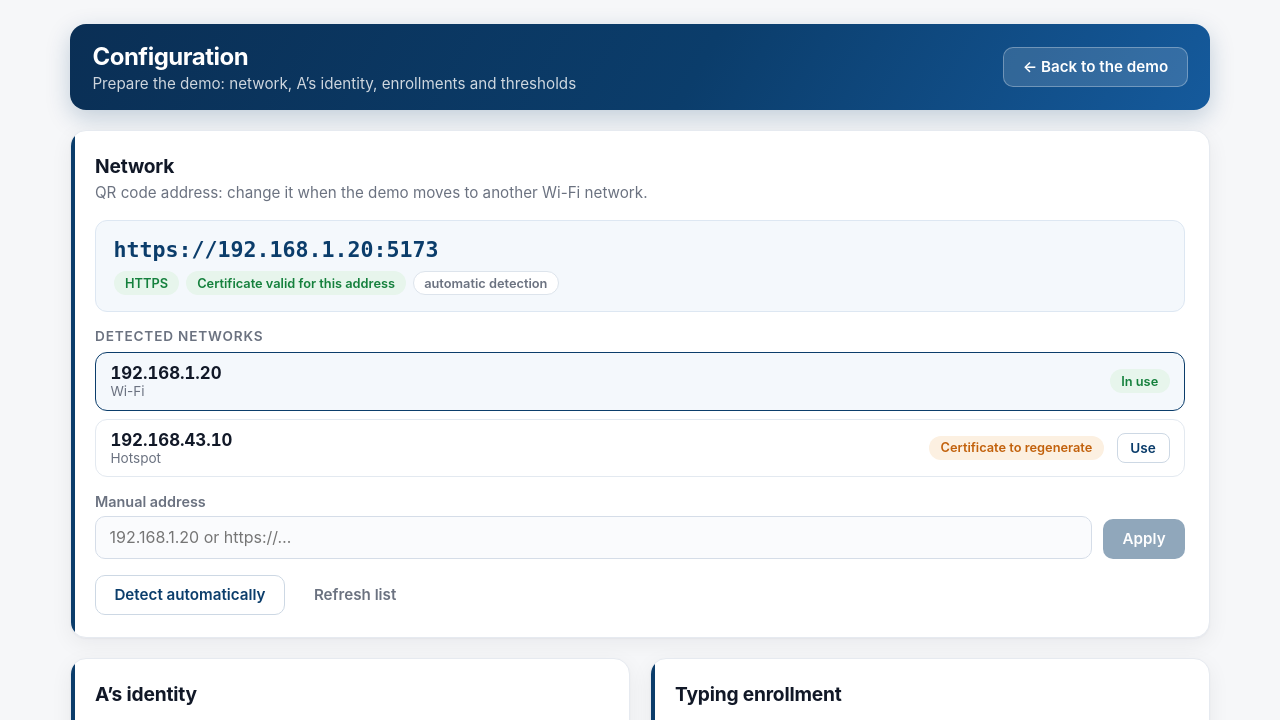
Config : réseau (changement de wifi) › « Use » change l’adresse et régénère le QR d’enrôlement
The image size is (1280, 720).
Expected: the text "https://192.168.1.20:5173" is shown, [114,237,439,262]
Click the button "Use": [1143, 448] box [1116,433,1170,463]
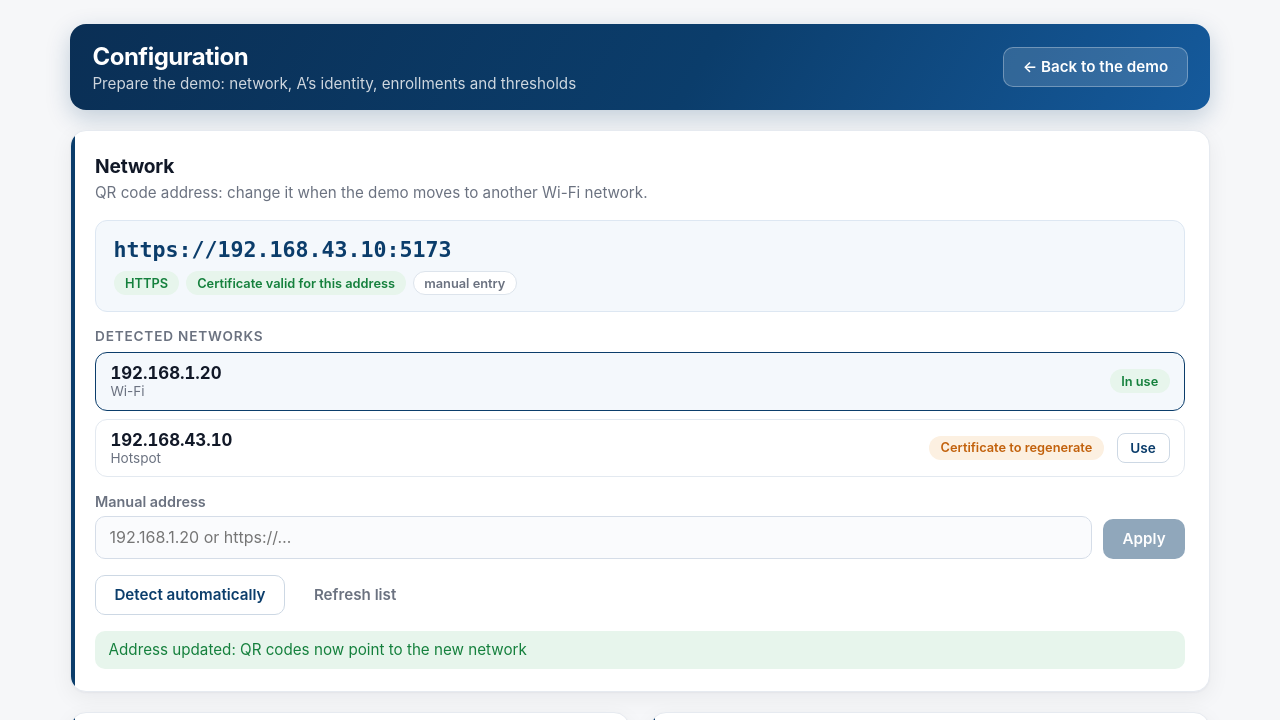
Expected: the text with test id "net-url" reads "https://192.168.43.10:5173", [114,237,452,262]
Expected: the text "Address updated: QR codes now point to the new network" is shown, [95,631,1185,669]
